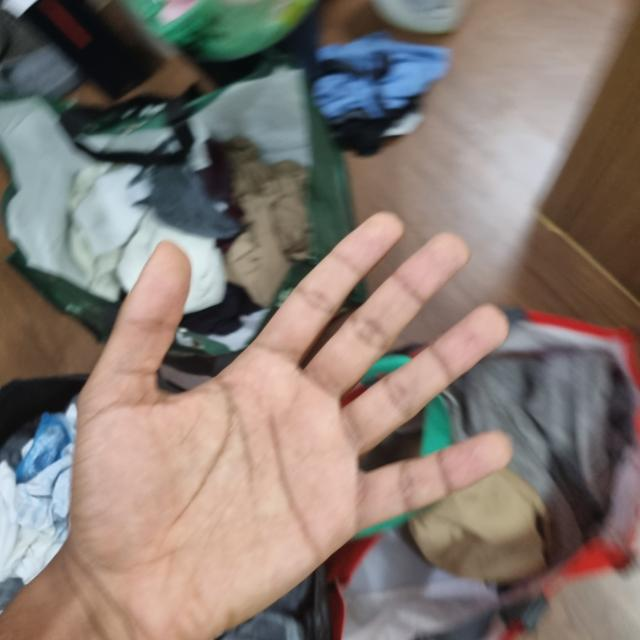Paper: (48, 215, 512, 640)
